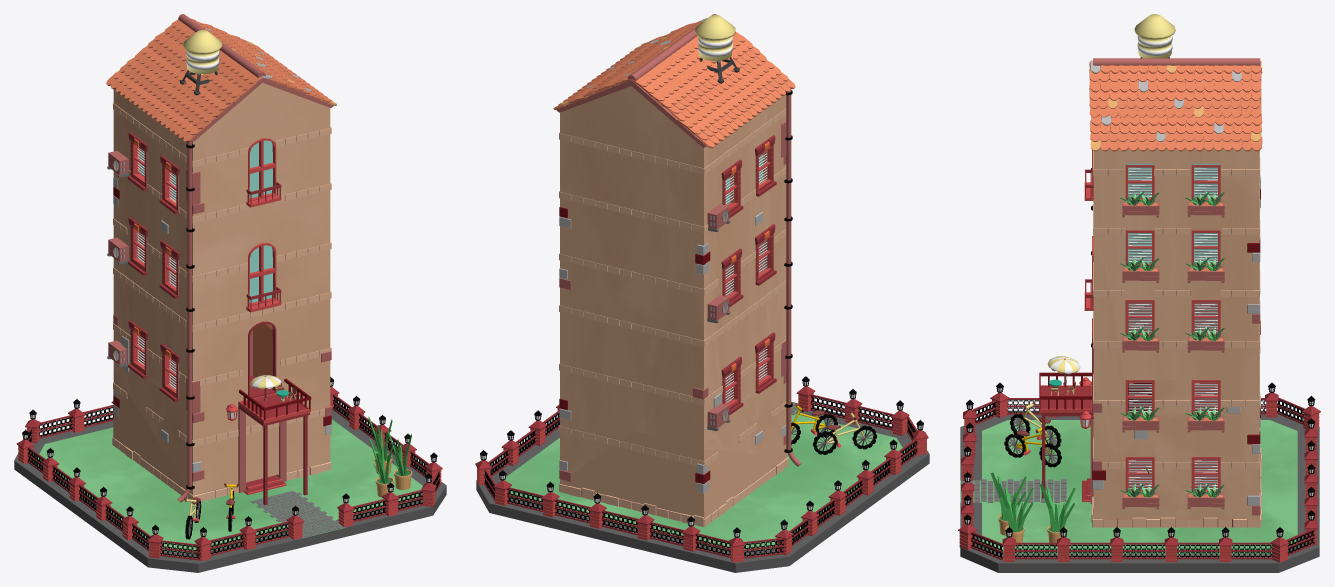
Rendered from house_lv4_3.fbx.
The picture shows the model from 3 angles, left to right: view 1: azimuth 30°, elevation 25°; view 2: azimuth 150°, elevation 25°; view 3: azimuth 270°, elevation 25°; orthographic projection. The views are drawn at different scales.
Parts seen in each view (by area): view 1: house_lv4_3, housebase_lv4_3, flowerpot_3_2, flowerpot_3_1; view 2: house_lv4_3, housebase_lv4_3, housebicycle_lv4_red_3, housebicycle_lv4_yellow_3; view 3: house_lv4_3, housebase_lv4_3, housebicycle_lv4_yellow_3, flowerpot_3_3, flowerpot_3_2, housebicycle_lv4_red_3, flowerpot_3_1, houseumbrella_lv4_3.
Boxes of the visible parts, x1=… form: house_lv4_3: x1=106, y1=14, x2=336, y2=504; housebase_lv4_3: x1=14, y1=376, x2=446, y2=572; flowerpot_3_2: x1=388, y1=431, x2=412, y2=489; flowerpot_3_1: x1=369, y1=439, x2=393, y2=497; house_lv4_3: x1=553, y1=14, x2=801, y2=526; housebase_lv4_3: x1=475, y1=376, x2=929, y2=572; housebicycle_lv4_red_3: x1=813, y1=411, x2=876, y2=454; housebicycle_lv4_yellow_3: x1=791, y1=403, x2=837, y2=444; house_lv4_3: x1=1039, y1=14, x2=1262, y2=527; housebase_lv4_3: x1=958, y1=382, x2=1320, y2=572; housebicycle_lv4_yellow_3: x1=1004, y1=427, x2=1061, y2=467; flowerpot_3_3: x1=1039, y1=484, x2=1075, y2=546; flowerpot_3_2: x1=997, y1=483, x2=1033, y2=546; housebicycle_lv4_red_3: x1=1010, y1=401, x2=1061, y2=449; flowerpot_3_1: x1=990, y1=472, x2=1026, y2=535; houseumbrella_lv4_3: x1=1047, y1=356, x2=1080, y2=384.
Bounding box in the file's own units: 3484 × 4997 × 3497.
